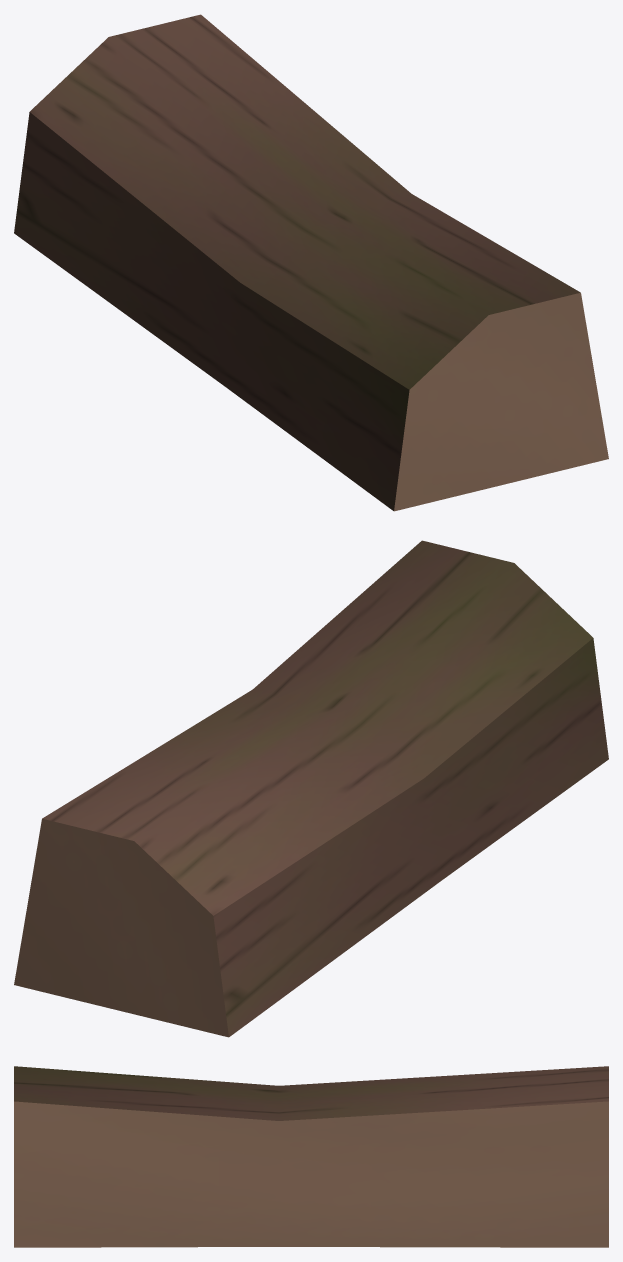
File: timberSINGLE_mesh.fbx
The picture shows the model from 3 angles, top to bottom: view 1: azimuth 30°, elevation 25°; view 2: azimuth 150°, elevation 25°; view 3: azimuth 270°, elevation 25°; orthographic projection. The views are drawn at different scales.
Parts seen in each view (by area): view 1: pCube8; view 2: pCube8; view 3: pCube8.
Part boxes in pixels (x1,y1,x2,y2): pCube8: (14, 14, 608, 511); pCube8: (14, 540, 608, 1037); pCube8: (14, 1066, 608, 1247).
Bounding box in the file's own units: 12.71 × 9.79 × 38.93.
